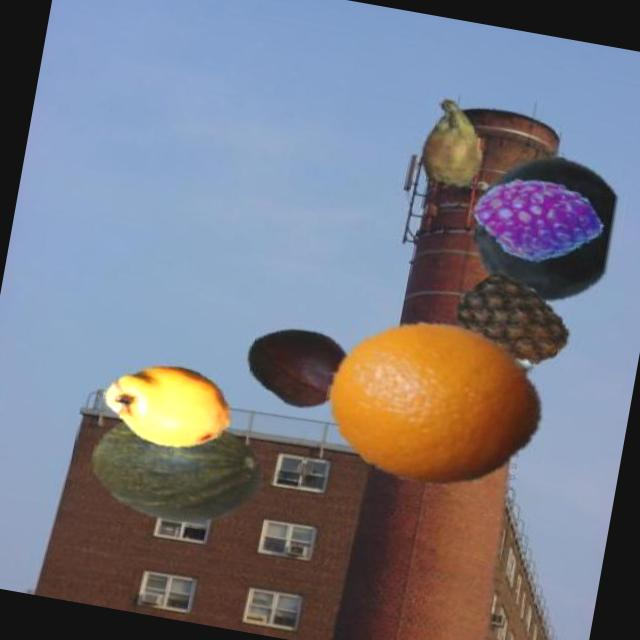Orange: (314, 300, 560, 503)
